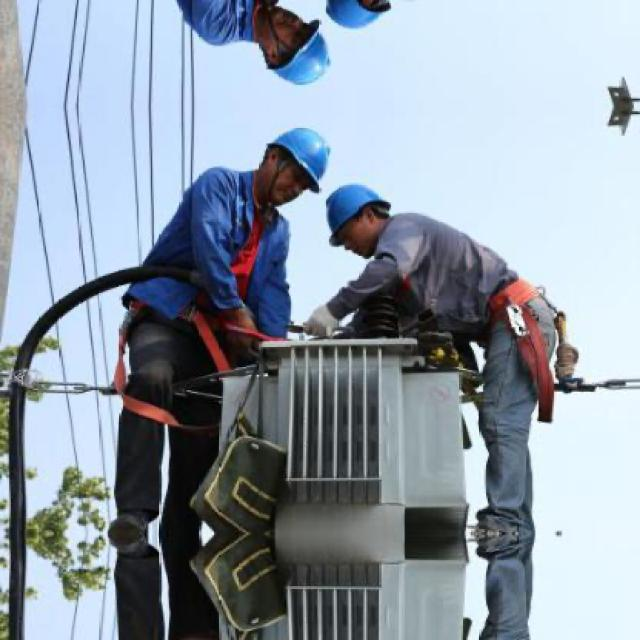con casco: (225, 90, 410, 190), (230, 18, 357, 116), (339, 155, 439, 253)
